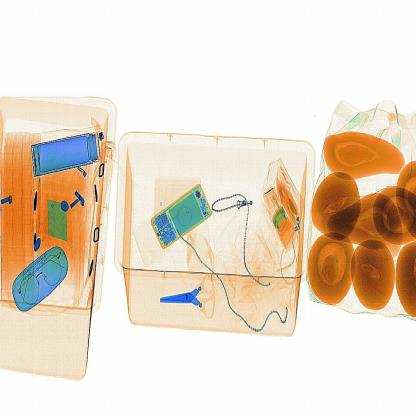gun: (155, 281, 211, 319)
